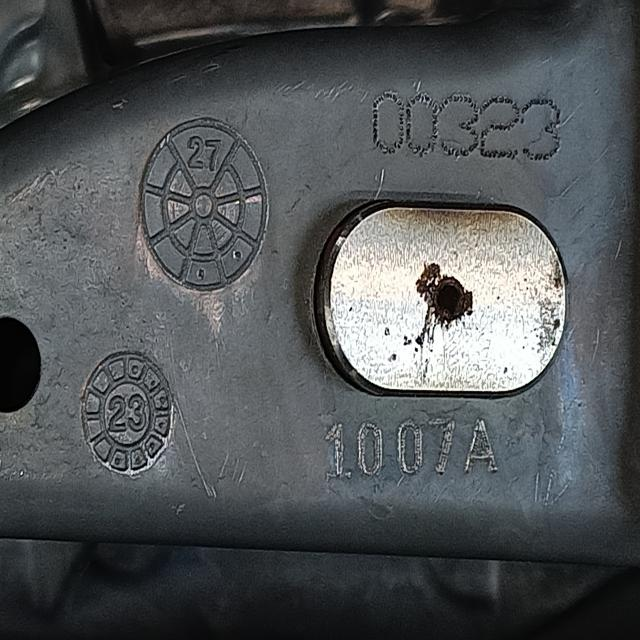DotPeeningText: (368, 88, 566, 166)
MachinePeeningText: (320, 414, 502, 488)
